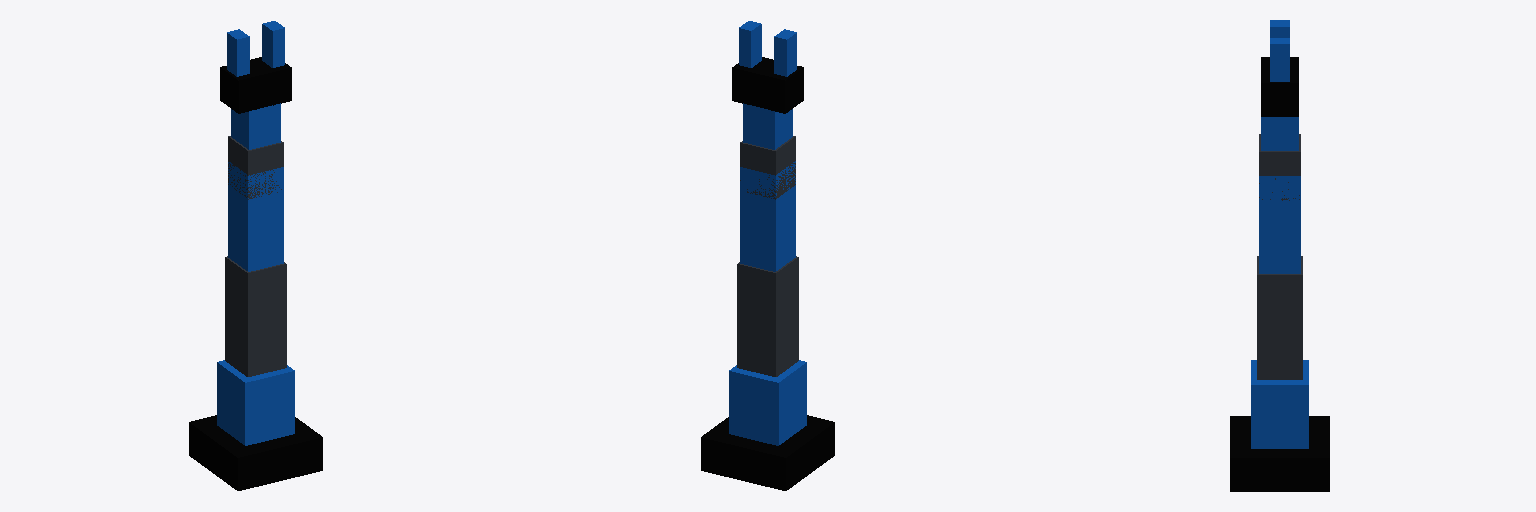
The robot description file, URDF, robot "so101":
<?xml version='1.0' encoding='utf-8'?>
<robot name="so101">
  <material name="so101_gray">
    <color rgba="0.22 0.24 0.27 1" />
  </material>
  <material name="so101_blue">
    <color rgba="0.08 0.38 0.72 1" />
  </material>
  <material name="so101_black">
    <color rgba="0.03 0.03 0.03 1" />
  </material>
  <link name="world" />
  <link name="base_link">
    <inertial>
      <origin xyz="0 0 0" />
      <mass value="0.42" />
      <inertia ixx="0.000574875" ixy="0" ixz="0" iyy="0.000574875" iyz="0" izz="0.001008" />
    </inertial>
    <visual>
      <geometry>
        <box size="0.12 0.12 0.045" />
      </geometry>
      <material name="so101_black" />
    </visual>
    <collision>
      <geometry>
        <box size="0.12 0.12 0.045" />
      </geometry>
    </collision>
  </link>
  <joint name="world_to_base" type="fixed">
    <parent link="world" />
    <child link="base_link" />
    <origin xyz="0 0 0.0225" />
  </joint>
  <link name="shoulder_link">
    <inertial>
      <origin xyz="0 0 0" />
      <mass value="0.22" />
      <inertia ixx="0.00022229166666666673" ixy="0" ixz="0" iyy="0.00022229166666666673" iyz="0" izz="0.0001796666666666667" />
    </inertial>
    <visual>
      <geometry>
        <box size="0.07 0.07 0.085" />
      </geometry>
      <material name="so101_blue" />
    </visual>
    <collision>
      <geometry>
        <box size="0.07 0.07 0.085" />
      </geometry>
    </collision>
  </link>
  <joint name="shoulder_pan" type="revolute">
    <parent link="base_link" />
    <child link="shoulder_link" />
    <origin xyz="0 0 0.065" />
    <axis xyz="0 0 1" />
    <limit lower="-1.9199" upper="1.9199" effort="6.0" velocity="3.0" />
    <dynamics damping="0.08" friction="0.02" />
  </joint>
  <link name="upper_arm_link">
    <inertial>
      <origin xyz="0 0 0.07" />
      <mass value="0.28" />
      <inertia ixx="0.00055" ixy="0" ixz="0" iyy="0.00055" iyz="0" izz="0.00012" />
    </inertial>
    <visual>
      <origin xyz="0 0 0.07" />
      <geometry>
        <box size="0.055 0.055 0.14" />
      </geometry>
      <material name="so101_gray" />
    </visual>
    <collision>
      <origin xyz="0 0 0.07" />
      <geometry>
        <box size="0.055 0.055 0.14" />
      </geometry>
    </collision>
  </link>
  <joint name="shoulder_lift" type="revolute">
    <parent link="shoulder_link" />
    <child link="upper_arm_link" />
    <origin xyz="0 0 0.045" />
    <axis xyz="0 1 0" />
    <limit lower="-1.7453" upper="1.7453" effort="6.0" velocity="3.0" />
    <dynamics damping="0.08" friction="0.02" />
  </joint>
  <link name="forearm_link">
    <inertial>
      <origin xyz="0 0 0.065" />
      <mass value="0.24" />
      <inertia ixx="0.00040" ixy="0" ixz="0" iyy="0.00040" iyz="0" izz="0.00010" />
    </inertial>
    <visual>
      <origin xyz="0 0 0.065" />
      <geometry>
        <box size="0.05 0.05 0.13" />
      </geometry>
      <material name="so101_blue" />
    </visual>
    <collision>
      <origin xyz="0 0 0.065" />
      <geometry>
        <box size="0.05 0.05 0.13" />
      </geometry>
    </collision>
  </link>
  <joint name="elbow_flex" type="revolute">
    <parent link="upper_arm_link" />
    <child link="forearm_link" />
    <origin xyz="0 0 0.14" />
    <axis xyz="0 1 0" />
    <limit lower="-1.7453" upper="1.7453" effort="6.0" velocity="3.0" />
    <dynamics damping="0.07" friction="0.02" />
  </joint>
  <link name="wrist_pitch_link">
    <inertial>
      <origin xyz="0 0 0" />
      <mass value="0.13" />
      <inertia ixx="7.285416666666668e-05" ixy="0" ixz="0" iyy="7.285416666666668e-05" iyz="0" izz="5.4166666666666685e-05" />
    </inertial>
    <visual>
      <geometry>
        <box size="0.05 0.05 0.065" />
      </geometry>
      <material name="so101_gray" />
    </visual>
    <collision>
      <geometry>
        <box size="0.05 0.05 0.065" />
      </geometry>
    </collision>
  </link>
  <joint name="wrist_flex" type="revolute">
    <parent link="forearm_link" />
    <child link="wrist_pitch_link" />
    <origin xyz="0 0 0.13" />
    <axis xyz="0 1 0" />
    <limit lower="-1.6581" upper="1.6581" effort="3.0" velocity="4.0" />
    <dynamics damping="0.05" friction="0.01" />
  </joint>
  <link name="wrist_roll_link">
    <inertial>
      <origin xyz="0 0 0" />
      <mass value="0.11" />
      <inertia ixx="5.156249999999999e-05" ixy="0" ixz="0" iyy="5.156249999999999e-05" iyz="0" izz="3.7125e-05" />
    </inertial>
    <visual>
      <geometry>
        <box size="0.045 0.045 0.06" />
      </geometry>
      <material name="so101_blue" />
    </visual>
    <collision>
      <geometry>
        <box size="0.045 0.045 0.06" />
      </geometry>
    </collision>
  </link>
  <joint name="wrist_roll" type="revolute">
    <parent link="wrist_pitch_link" />
    <child link="wrist_roll_link" />
    <origin xyz="0 0 0.055" />
    <axis xyz="0 0 1" />
    <limit lower="-2.7439" upper="2.7439" effort="3.0" velocity="4.0" />
    <dynamics damping="0.04" friction="0.01" />
  </joint>
  <link name="gripper_base_link">
    <inertial>
      <origin xyz="0 0 0" />
      <mass value="0.1" />
      <inertia ixx="3.375e-05" ixy="0" ixz="0" iyy="6.375e-05" iyz="0" izz="6.375e-05" />
    </inertial>
    <visual>
      <geometry>
        <box size="0.075 0.045 0.045" />
      </geometry>
      <material name="so101_black" />
    </visual>
    <collision>
      <geometry>
        <box size="0.075 0.045 0.045" />
      </geometry>
    </collision>
  </link>
  <joint name="wrist_to_gripper" type="fixed">
    <parent link="wrist_roll_link" />
    <child link="gripper_base_link" />
    <origin xyz="0 0 0.052" />
  </joint>
  <link name="gripper_jaw_link">
    <inertial>
      <origin xyz="0 0 0" />
      <mass value="0.035" />
      <inertia ixx="1.8229166666666668e-05" ixy="0" ixz="0" iyy="1.735125e-05" iyz="0" izz="2.7679166666666673e-06" />
    </inertial>
    <visual>
      <geometry>
        <box size="0.018 0.025 0.075" />
      </geometry>
      <material name="so101_blue" />
    </visual>
    <collision>
      <geometry>
        <box size="0.018 0.025 0.075" />
      </geometry>
    </collision>
  </link>
  <joint name="gripper" type="prismatic">
    <parent link="gripper_base_link" />
    <child link="gripper_jaw_link" />
    <origin xyz="0.025 0 0.035" />
    <axis xyz="1 0 0" />
    <limit lower="0.0" upper="0.04" effort="2.0" velocity="0.15" />
    <dynamics damping="0.05" friction="0.01" />
  </joint>
  <link name="fixed_jaw_link">
    <visual>
      <origin xyz="-0.025 0 0.035" />
      <geometry>
        <box size="0.018 0.025 0.075" />
      </geometry>
      <material name="so101_blue" />
    </visual>
    <collision>
      <origin xyz="-0.025 0 0.035" />
      <geometry>
        <box size="0.018 0.025 0.075" />
      </geometry>
    </collision>
  </link>
  <joint name="fixed_jaw_joint" type="fixed">
    <parent link="gripper_base_link" />
    <child link="fixed_jaw_link" />
  </joint>
  <ros2_control name="SO101System" type="system">
    <hardware>
      <plugin>gz_ros2_control/GazeboSimSystem</plugin>
    </hardware>
    <joint name="shoulder_pan">
      <command_interface name="position" />
      <state_interface name="position">
        <param name="initial_value">0.0</param>
      </state_interface>
      <state_interface name="velocity" />
    </joint>
    <joint name="shoulder_lift">
      <command_interface name="position" />
      <state_interface name="position">
        <param name="initial_value">0.0</param>
      </state_interface>
      <state_interface name="velocity" />
    </joint>
    <joint name="elbow_flex">
      <command_interface name="position" />
      <state_interface name="position">
        <param name="initial_value">0.0</param>
      </state_interface>
      <state_interface name="velocity" />
    </joint>
    <joint name="wrist_flex">
      <command_interface name="position" />
      <state_interface name="position">
        <param name="initial_value">0.0</param>
      </state_interface>
      <state_interface name="velocity" />
    </joint>
    <joint name="wrist_roll">
      <command_interface name="position" />
      <state_interface name="position">
        <param name="initial_value">0.0</param>
      </state_interface>
      <state_interface name="velocity" />
    </joint>
    <joint name="gripper">
      <command_interface name="position" />
      <state_interface name="position">
        <param name="initial_value">0.0</param>
      </state_interface>
      <state_interface name="velocity" />
    </joint>
  </ros2_control>
</robot>

--- What the picture shows (computed from the rendered views, not written in the file) ---
The picture shows the robot from 3 angles, left to right: view 1: azimuth 30°, elevation 25°; view 2: azimuth 150°, elevation 25°; view 3: azimuth 270°, elevation 25°; orthographic projection.
Robot: so101 — 10 links, 9 joints (5 revolute, 1 prismatic, 3 fixed); root link world; default pose: every joint at zero.
Visible links, largest first — view 1: upper_arm_link, base_link, shoulder_link, forearm_link, gripper_base_link, wrist_roll_link, wrist_pitch_link, fixed_jaw_link, gripper_jaw_link; view 2: upper_arm_link, base_link, shoulder_link, forearm_link, gripper_base_link, wrist_pitch_link, wrist_roll_link, fixed_jaw_link, gripper_jaw_link; view 3: base_link, upper_arm_link, shoulder_link, forearm_link, gripper_base_link, wrist_roll_link, wrist_pitch_link, gripper_jaw_link.
Link boxes in pixels (x1,y1,x2,y2): upper_arm_link: [225, 256, 286, 376]; base_link: [189, 415, 322, 490]; shoulder_link: [217, 360, 294, 445]; forearm_link: [228, 162, 283, 271]; gripper_base_link: [220, 57, 291, 113]; wrist_roll_link: [231, 103, 280, 149]; wrist_pitch_link: [228, 136, 283, 199]; fixed_jaw_link: [227, 29, 249, 76]; gripper_jaw_link: [262, 21, 284, 67]; upper_arm_link: [737, 256, 798, 376]; base_link: [701, 415, 834, 490]; shoulder_link: [729, 360, 806, 445]; forearm_link: [740, 161, 795, 271]; gripper_base_link: [732, 57, 803, 113]; wrist_pitch_link: [740, 136, 795, 199]; wrist_roll_link: [743, 103, 792, 149]; fixed_jaw_link: [774, 29, 796, 76]; gripper_jaw_link: [739, 21, 761, 67]; base_link: [1230, 416, 1329, 491]; upper_arm_link: [1257, 256, 1302, 379]; shoulder_link: [1251, 360, 1308, 448]; forearm_link: [1259, 176, 1300, 273]; gripper_base_link: [1261, 57, 1298, 116]; wrist_roll_link: [1261, 117, 1298, 150]; wrist_pitch_link: [1259, 134, 1300, 200]; gripper_jaw_link: [1270, 38, 1289, 81].
Size in the robot's own frame: 0.12 by 0.12 by 0.582 metres.
Geometry: primitives only (box / cylinder / sphere), no mesh files.
